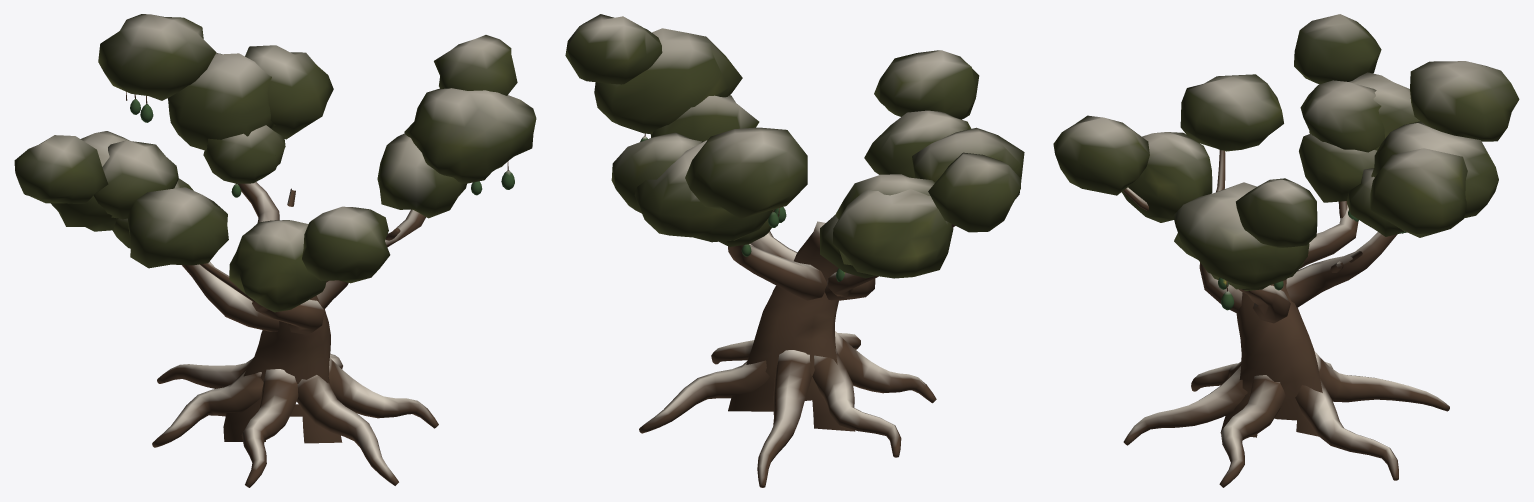
Rendered from ArbolGigante.glb.
3 views of the same model, side by side, from view 1: azimuth 30°, elevation 25°; view 2: azimuth 150°, elevation 25°; view 3: azimuth 270°, elevation 25° (orthographic). The views are drawn at different scales.
Parts seen in each view (by area): view 1: ArbolGigante; view 2: ArbolGigante; view 3: ArbolGigante.
Part boxes in pixels (bbox=[...]): ArbolGigante: bbox=[14, 14, 536, 487]; ArbolGigante: bbox=[565, 14, 1024, 487]; ArbolGigante: bbox=[1053, 14, 1519, 487].
Size of the model in its own units: 34.16 by 24.7 by 30.1.
